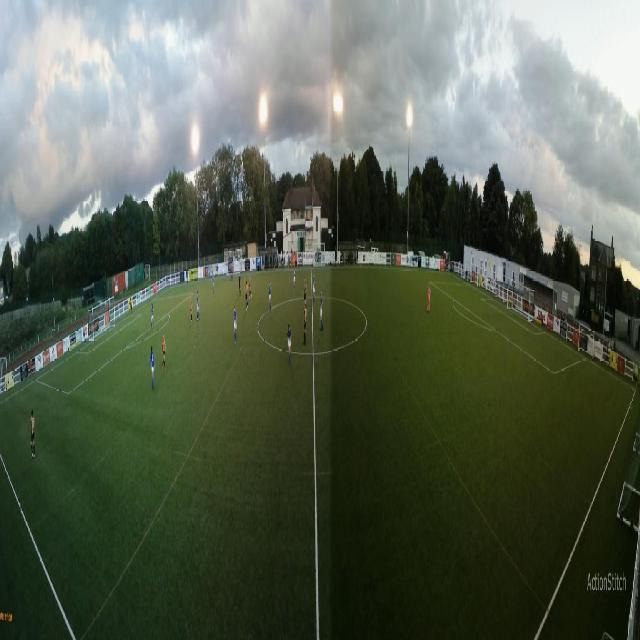player: (30, 406, 36, 462), (150, 344, 156, 390), (162, 331, 167, 370), (287, 323, 291, 367), (320, 289, 324, 331), (233, 306, 237, 346), (426, 282, 431, 314), (303, 299, 306, 345), (196, 291, 200, 321), (313, 273, 316, 308), (245, 279, 248, 313), (269, 278, 272, 312), (249, 272, 252, 302), (151, 301, 154, 330), (190, 294, 193, 323), (293, 266, 296, 292), (239, 273, 242, 298), (212, 272, 215, 296), (130, 296, 133, 316), (304, 278, 306, 305), (231, 260, 233, 282)
